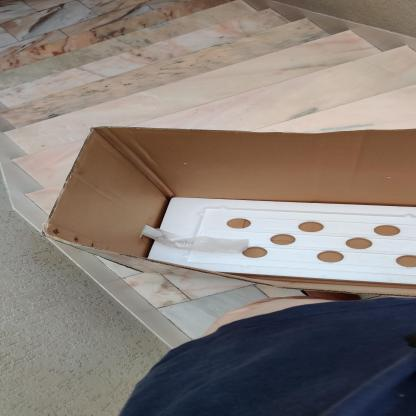karton: (40, 125, 416, 300)
kopuk: (141, 198, 416, 286)
